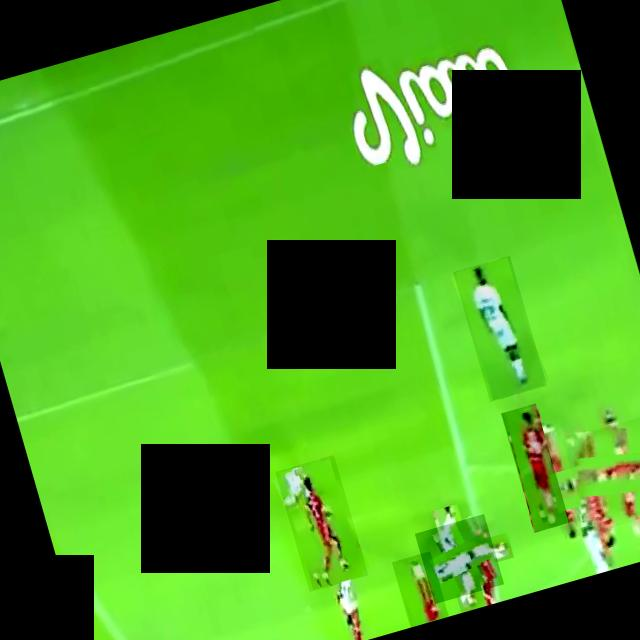soccer-player: (452, 254, 546, 400), (274, 454, 367, 591), (561, 411, 640, 532), (499, 402, 568, 532), (413, 512, 502, 602), (390, 550, 448, 627)
